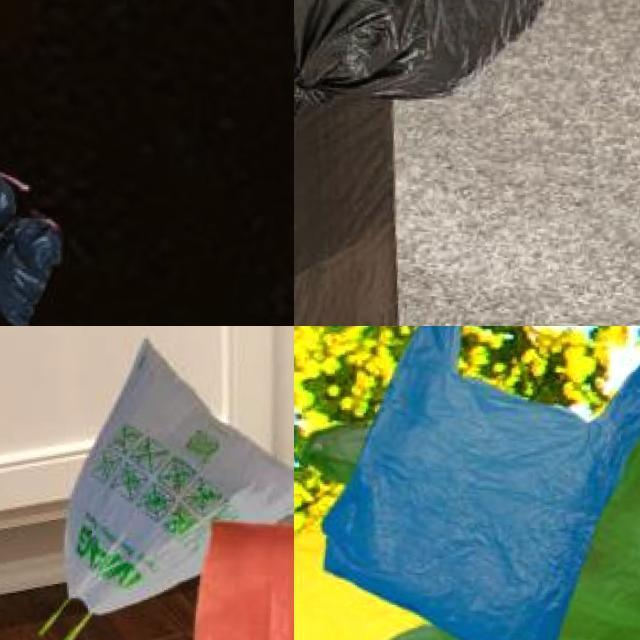waste: (314, 326, 640, 640), (51, 326, 294, 635), (368, 406, 640, 640), (294, 0, 553, 193), (199, 505, 294, 640), (0, 211, 67, 326)
